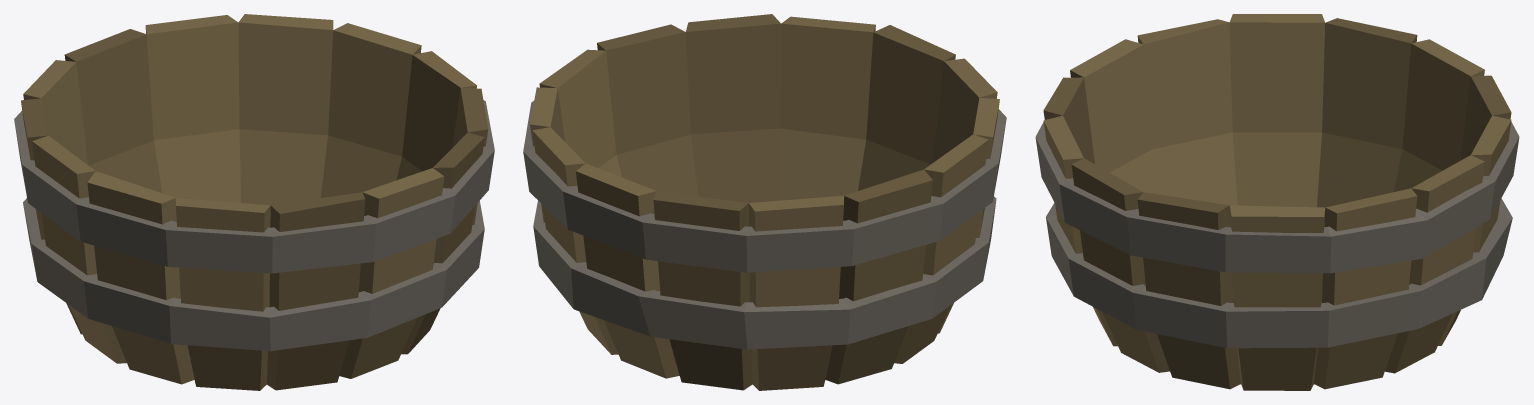
The model's file is Trough_1.fbx.
3 views of the same model, side by side, from view 1: azimuth 30°, elevation 25°; view 2: azimuth 150°, elevation 25°; view 3: azimuth 270°, elevation 25° (orthographic).
Parts seen in each view (by area): view 1: Trough_1; view 2: Trough_1; view 3: Trough_1.
Part boxes in pixels (bbox=[...]): Trough_1: bbox=[14, 14, 494, 390]; Trough_1: bbox=[523, 14, 1006, 390]; Trough_1: bbox=[1035, 14, 1519, 390].
Size of the model in its own units: 78.75 by 37.82 by 80.77.
